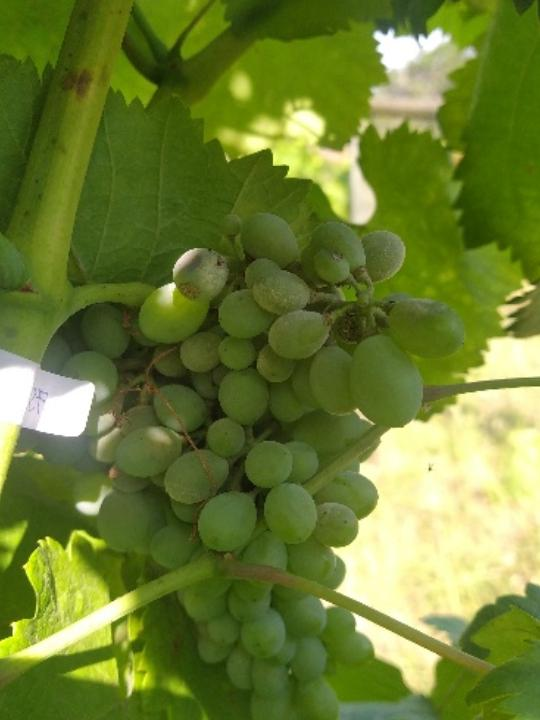grape: (33, 200, 476, 720)
